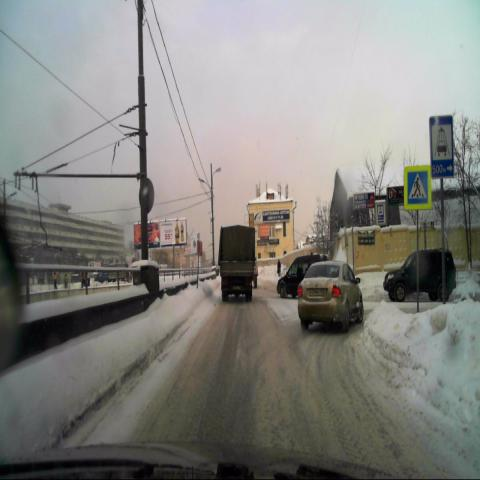7_5: (430, 113, 455, 180)
